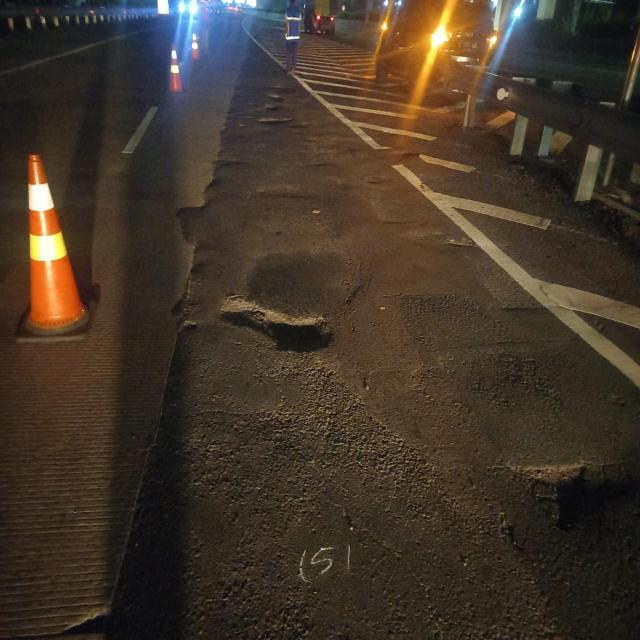Buraco: (499, 456, 640, 540), (215, 292, 338, 356), (54, 603, 120, 639), (254, 116, 296, 128), (264, 93, 288, 104), (286, 121, 313, 130), (398, 150, 422, 160), (262, 103, 283, 112)
